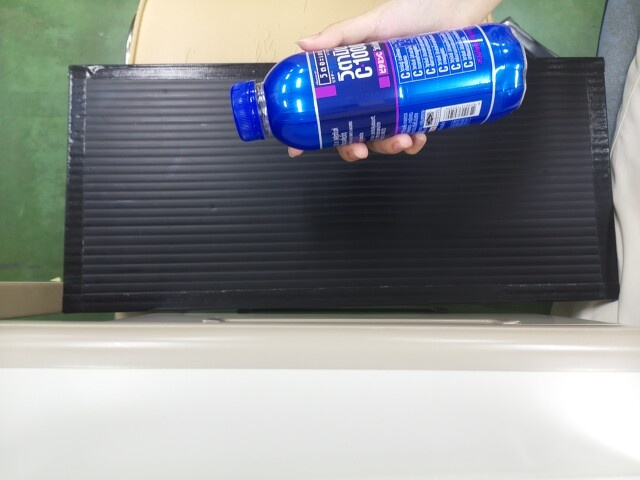plastic_bottle: (226, 56, 528, 139)
